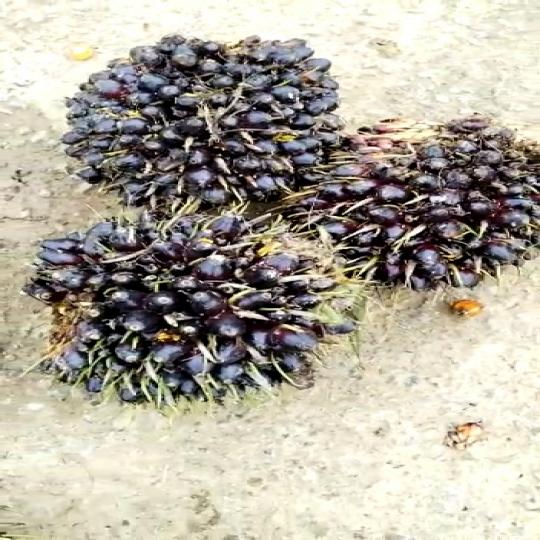mentah: (0, 220, 373, 422), (44, 28, 347, 225), (279, 112, 540, 293)
